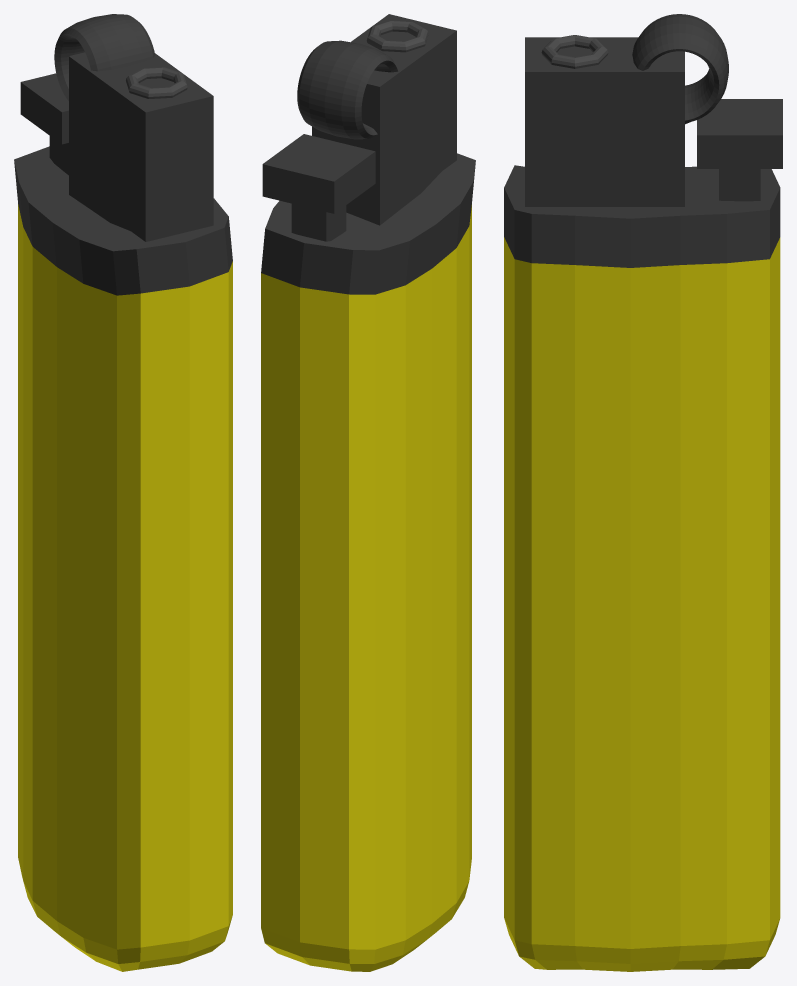
The picture shows the model from 3 angles, left to right: view 1: azimuth 30°, elevation 25°; view 2: azimuth 150°, elevation 25°; view 3: azimuth 270°, elevation 25°; orthographic projection. The views are drawn at different scales.
Parts seen in each view (by area): view 1: Cylinder.012; view 2: Cylinder.012; view 3: Cylinder.012.
Part boxes in pixels (x1=…): Cylinder.012: x1=14, y1=14, x2=232, y2=971; Cylinder.012: x1=261, y1=14, x2=475, y2=971; Cylinder.012: x1=504, y1=14, x2=782, y2=971.
Size of the model in its own units: 64.88 by 417 by 112.
